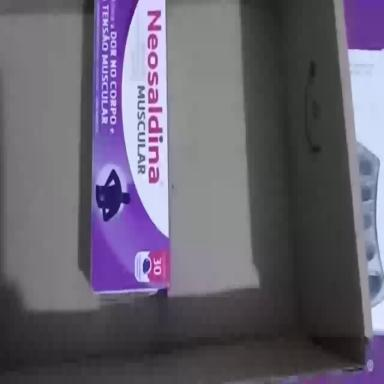Medicamento: (91, 0, 169, 293)
